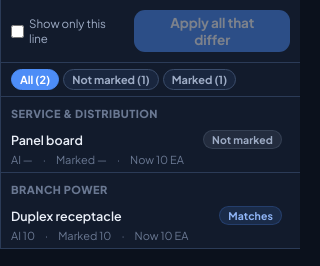
Test: ItemsPanel — filter (UI round 1) › shows counts from all lines and filters rows, hiding a category left empty
This screenshot has width=320, height=266.
Check: the button with test id "items-filter-all" reads "All (2)", box [11,69,59,90]
Check: the button with test id "items-filter-marked" reads "Marked (1)", box [163,69,236,90]
Click the button with test id "items-filter-not_marked" at [111, 80], box [63,69,159,90]
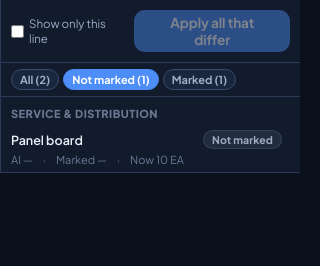
Check: the text "Panel board" is shown, box [11,132,83,148]
Check: the text "Duplex receptacle" is gone
Check: the text "Branch Power" is gone
Click the button with test id "items-filter-marked" at [200, 80], box [163,69,236,90]
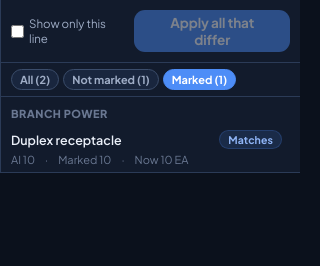
Check: the text "Duplex receptacle" is shown, box [11,132,122,148]
Check: the text "Panel board" is gone
